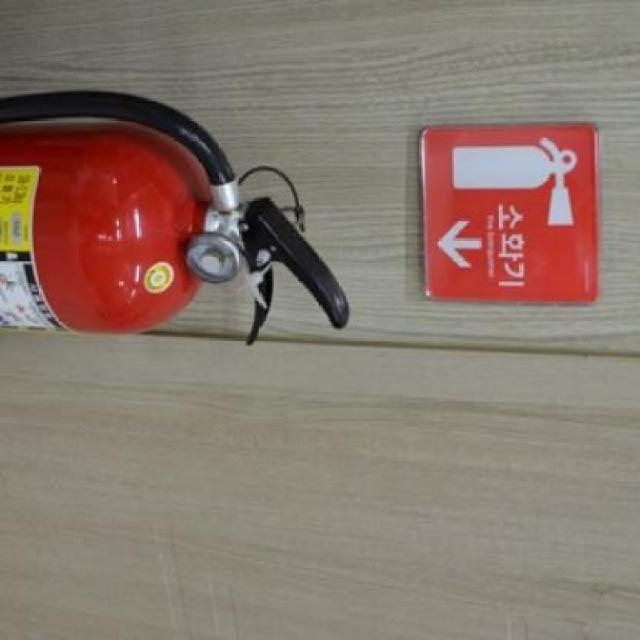fire extinguisher: (0, 89, 353, 346)
